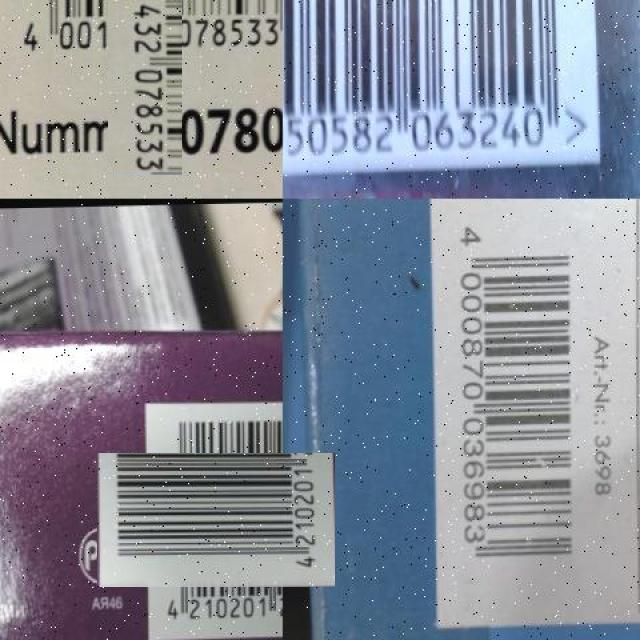Barcode: (451, 199, 629, 593), (283, 0, 597, 168), (122, 427, 309, 613), (59, 0, 233, 125)
